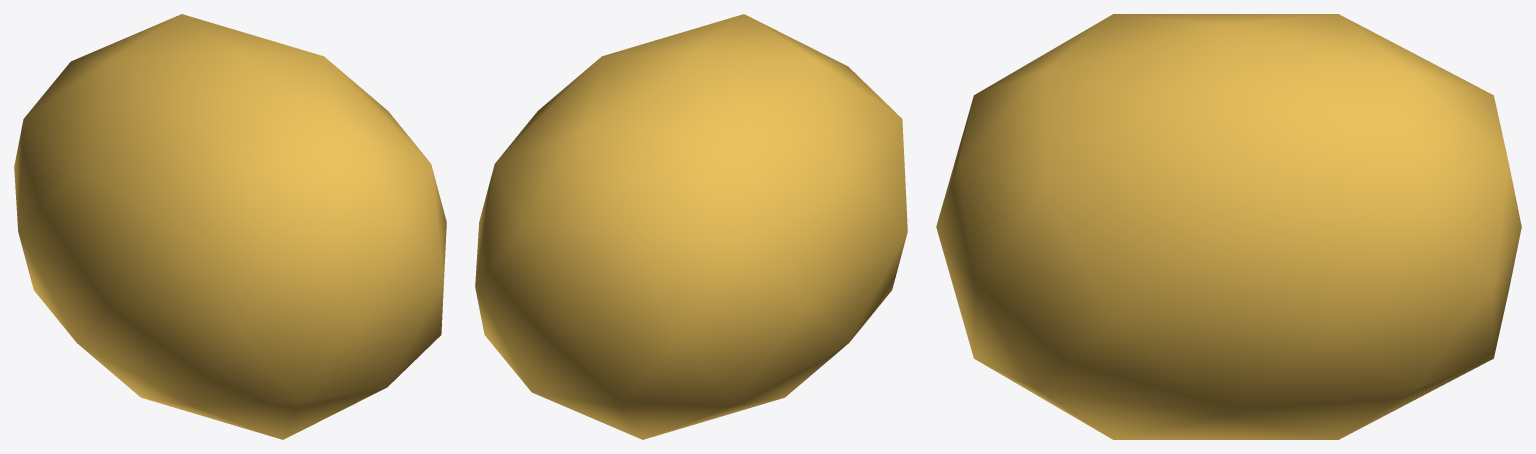
File: Potato.glb
3 views of the same model, side by side, from view 1: azimuth 30°, elevation 25°; view 2: azimuth 150°, elevation 25°; view 3: azimuth 270°, elevation 25° (orthographic). The views are drawn at different scales.
Visible parts, largest first — view 1: Icosphere; view 2: Icosphere; view 3: Icosphere.
Part boxes in pixels (x1,y1,x2,y2): Icosphere: [14, 14, 446, 439]; Icosphere: [475, 14, 907, 439]; Icosphere: [936, 14, 1521, 439].
Bounding box in the file's own units: 0.5479 × 0.5513 × 0.7266.
